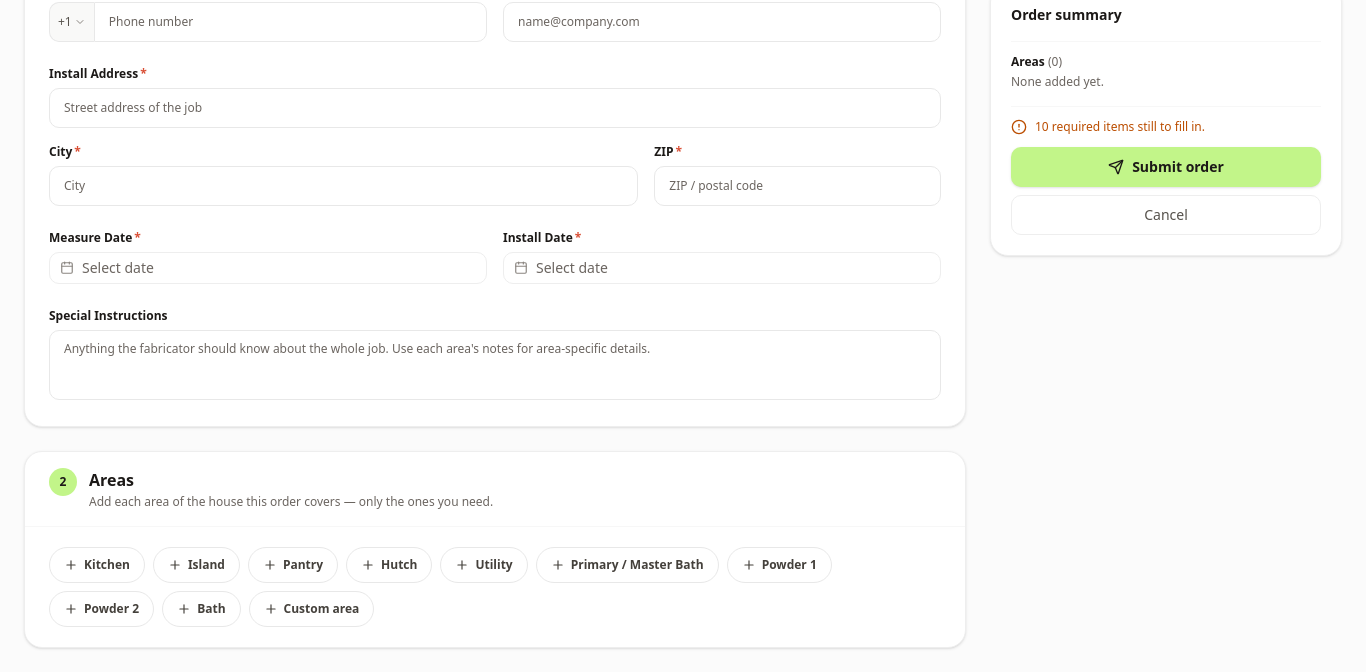
Test: AddCreatedOrderPage › copies Color, Finish and Edge from another area
(page scrolled)
Click the button with aria-label "Add Kitchen" at (97, 565), box 49,547 -> 145,583
(page scrolled)
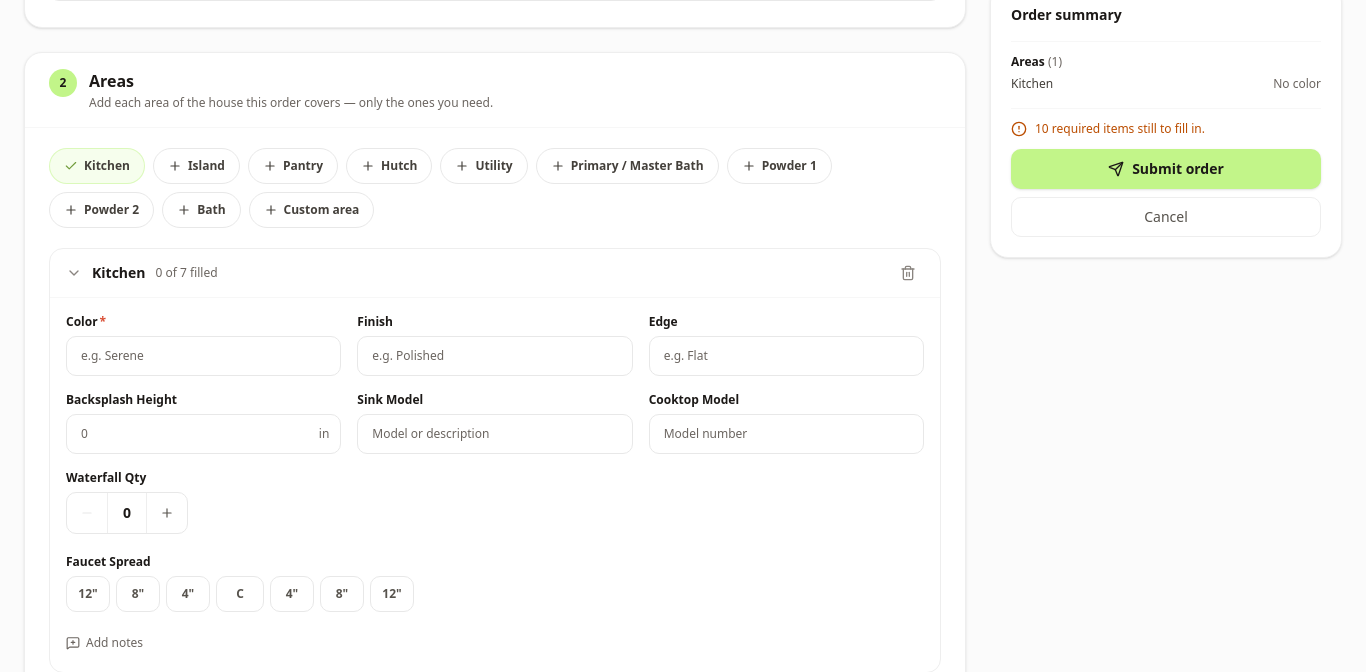
Type "Serene" into the field labelled "Color*" at (204, 356), box 66,336 -> 341,376
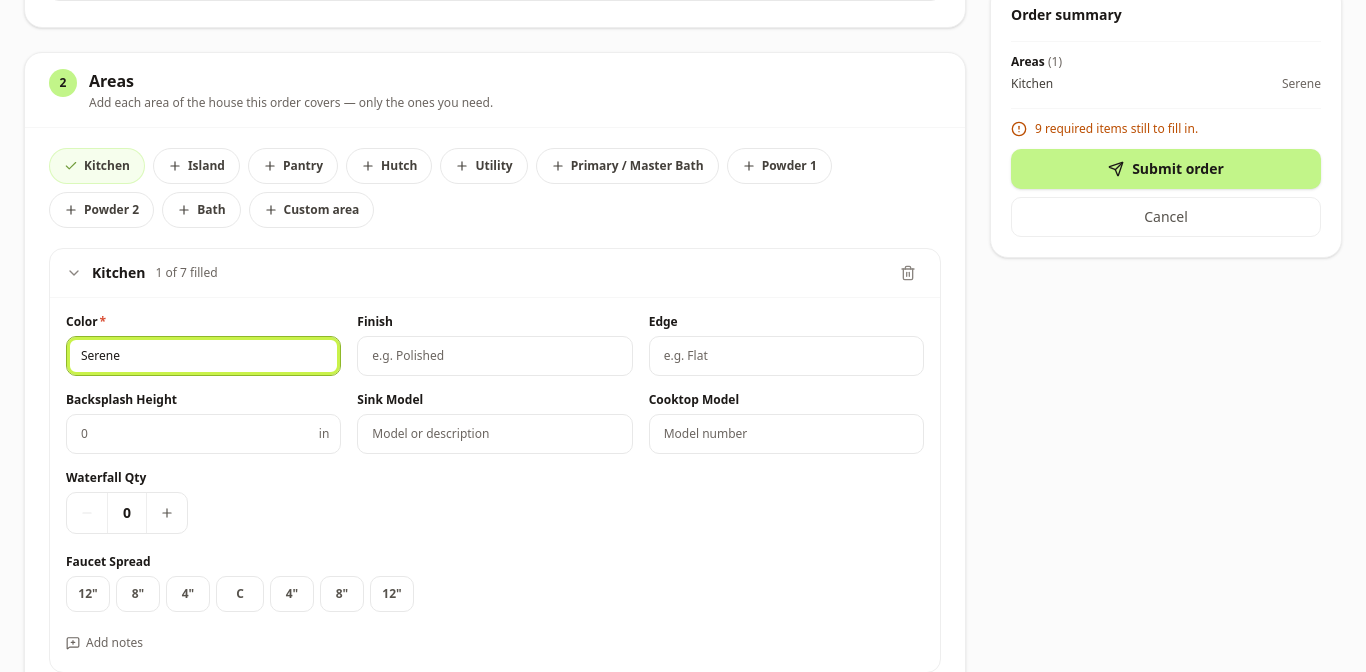
Click the button with aria-label "Add Island" at (196, 166), box 153,148 -> 240,184
(page scrolled)
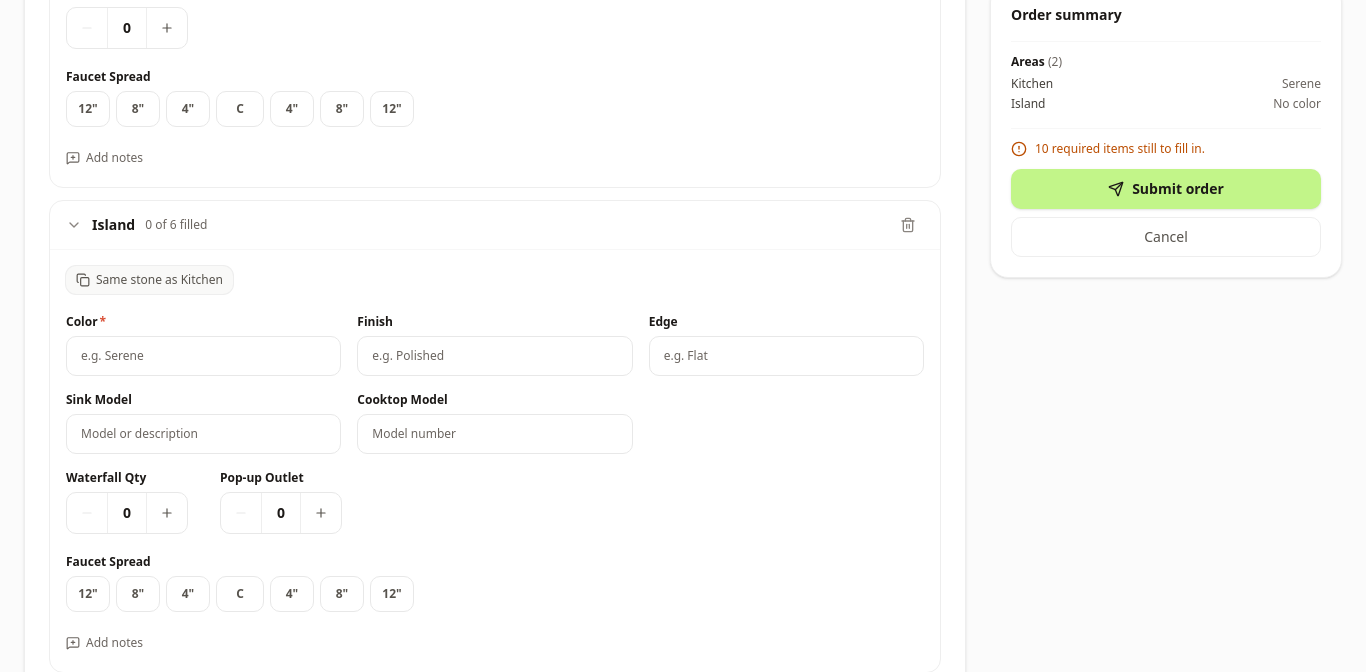
Click the button with aria-label "Copy Color, Finish and Edge from Kitchen" at (149, 280), box 66,266 -> 233,294
(page scrolled)
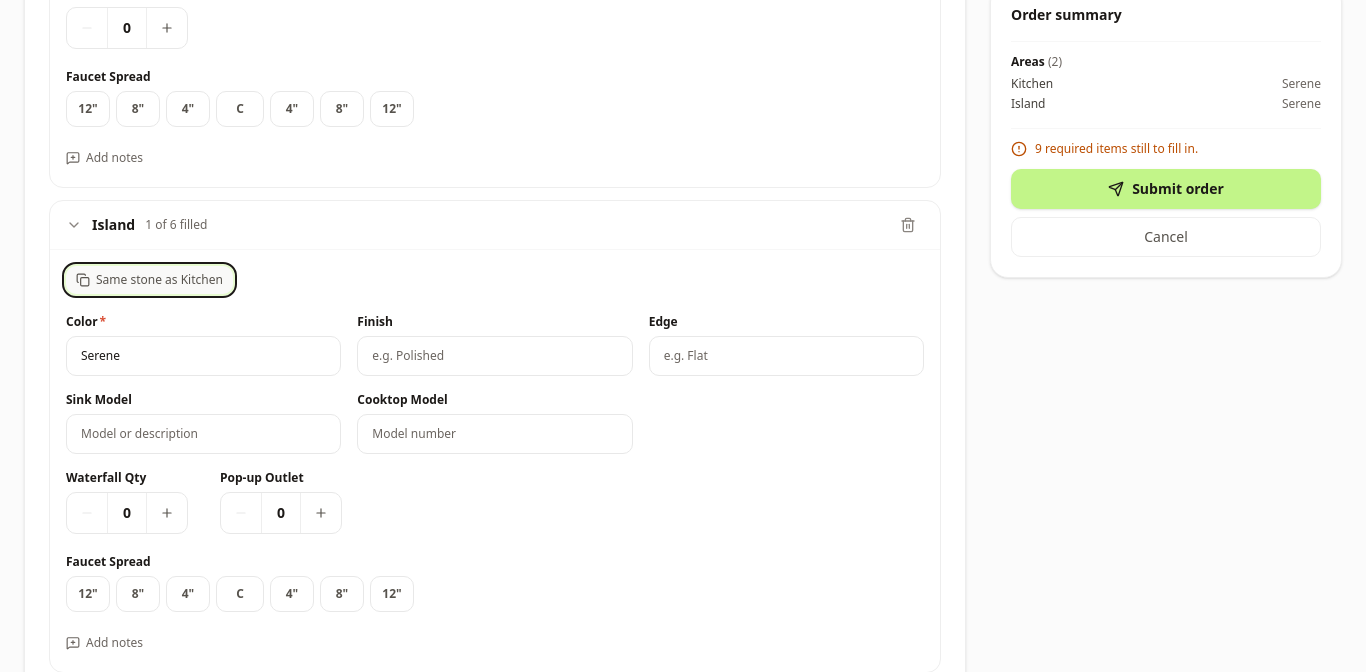
Expected: the field labelled "Color*" holds "Serene", 66,336 -> 341,376
